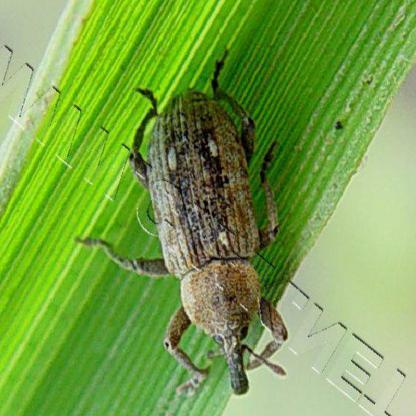rice-bug: (127, 66, 298, 387)
